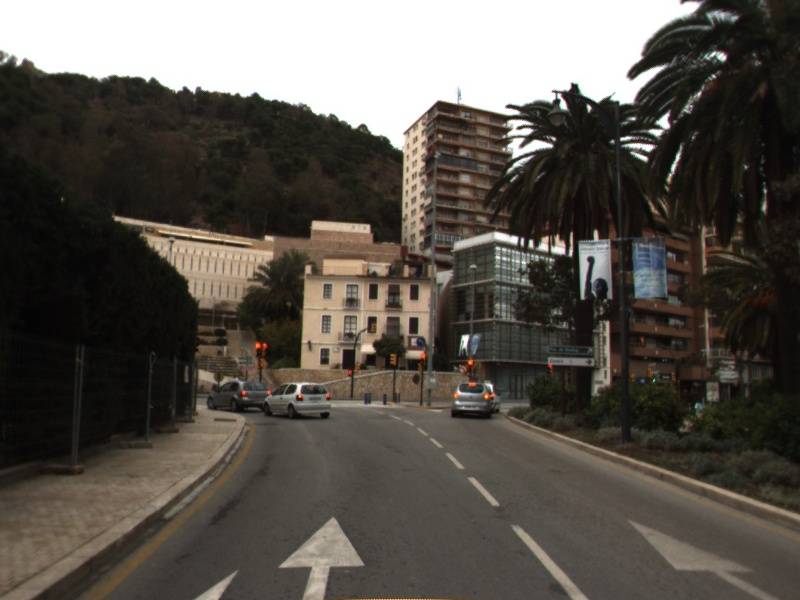STRAIGHT: (624, 516, 786, 600), (275, 514, 367, 600)
